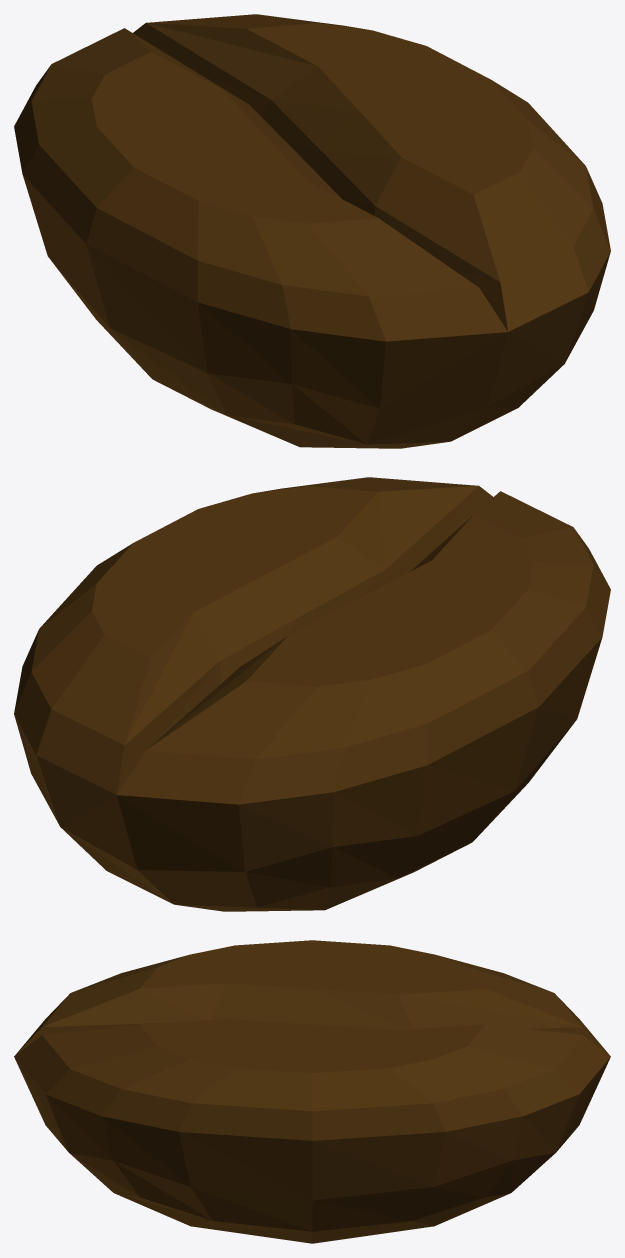
File: cad6126f-2bd0-48e4-8623-258675b4767f.glb
3 renders of one model, top to bottom at view 1: azimuth 30°, elevation 25°; view 2: azimuth 150°, elevation 25°; view 3: azimuth 270°, elevation 25°, orthographic. The views are drawn at different scales.
Parts seen in each view (by area): view 1: Coffee_Bean; view 2: Coffee_Bean; view 3: Coffee_Bean.
Part boxes in pixels (x1=…): Coffee_Bean: x1=14, y1=14, x2=610, y2=448; Coffee_Bean: x1=14, y1=477, x2=610, y2=911; Coffee_Bean: x1=14, y1=940, x2=610, y2=1243.
Size of the model in its own units: 33.58 by 20.29 by 50.29.
Materials: 1 (1 with a texture image).
